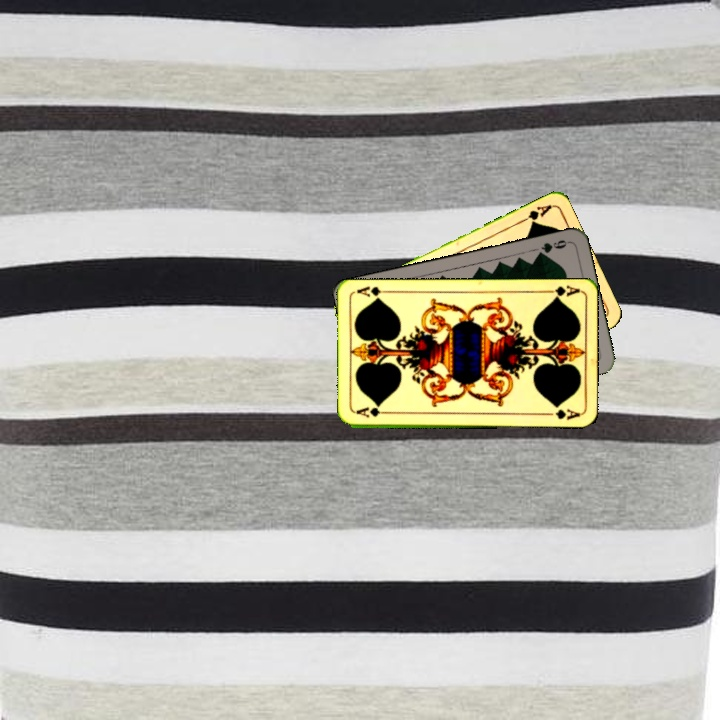G9: (533, 236, 572, 259)
GA: (516, 200, 554, 227), (540, 282, 581, 302), (352, 403, 393, 420)
